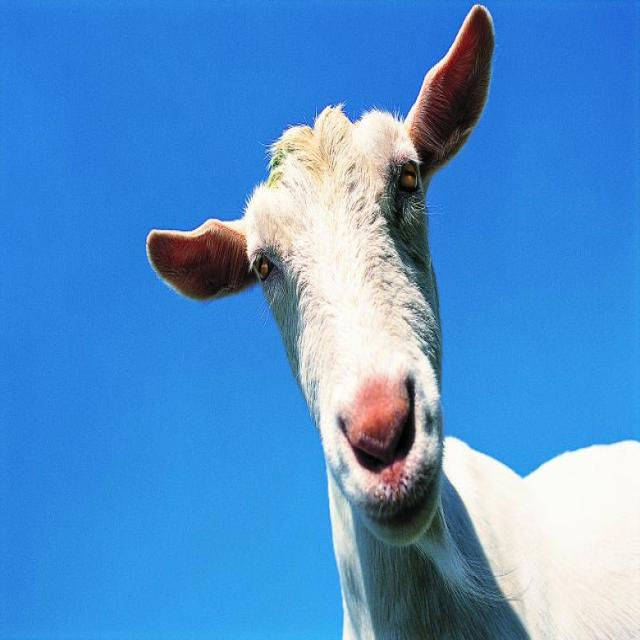goat: (147, 5, 640, 639)
